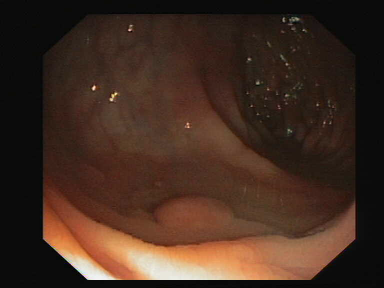polyp: (154, 185, 244, 235)
